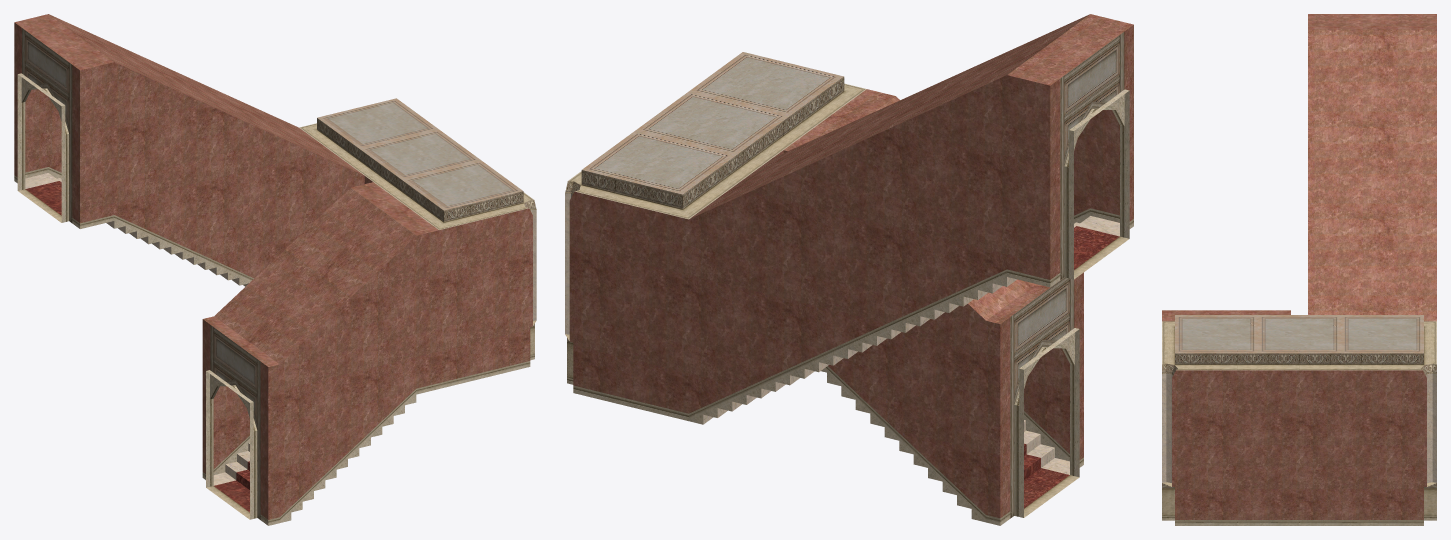
File: ply_nboo_house_lg_s01_fp1_r12_stairs2_mesh_r12.fbx
The picture shows the model from 3 angles, left to right: view 1: azimuth 30°, elevation 25°; view 2: azimuth 150°, elevation 25°; view 3: azimuth 270°, elevation 25°; orthographic projection. The views are drawn at different scales.
Parts seen in each view (by area): view 1: mesh_node; view 2: mesh_node; view 3: mesh_node.
Part boxes in pixels (left/top/right/bottom): mesh_node: left=14, top=14, right=536, bottom=525; mesh_node: left=565, top=14, right=1133, bottom=525; mesh_node: left=1162, top=14, right=1436, bottom=525.
Size of the model in its own units: 10.4 by 10.8 by 6.4.
